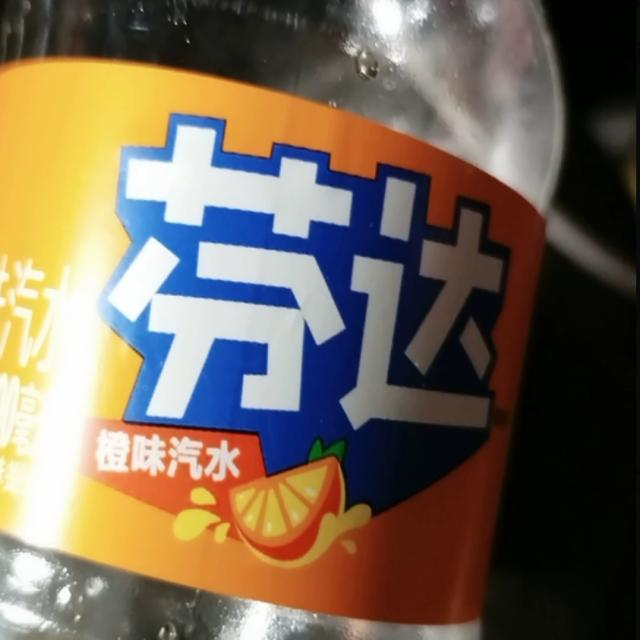orange: (99, 89, 503, 577)
